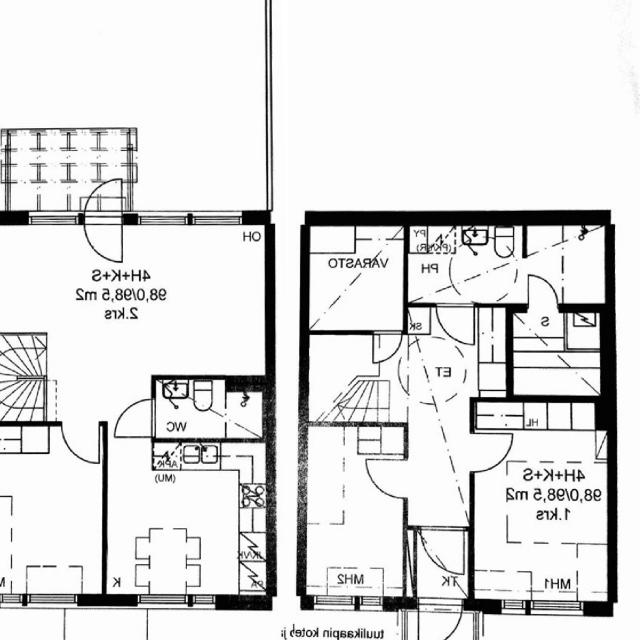door: (421, 526, 464, 575), (418, 595, 461, 640), (85, 211, 122, 263), (85, 173, 122, 225), (470, 434, 511, 472), (367, 460, 408, 498), (437, 304, 474, 346), (63, 421, 99, 464), (116, 400, 156, 436), (529, 273, 558, 313), (374, 330, 401, 363)
